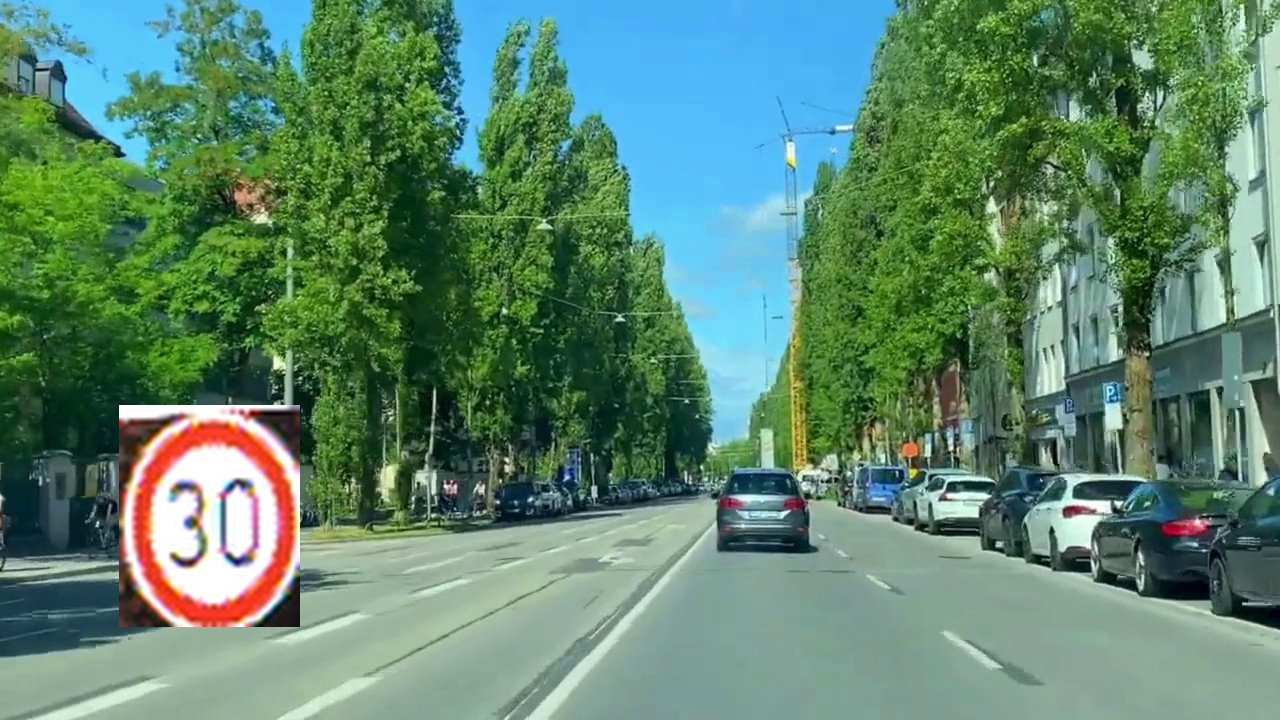Speed 30: (119, 405, 300, 627)
